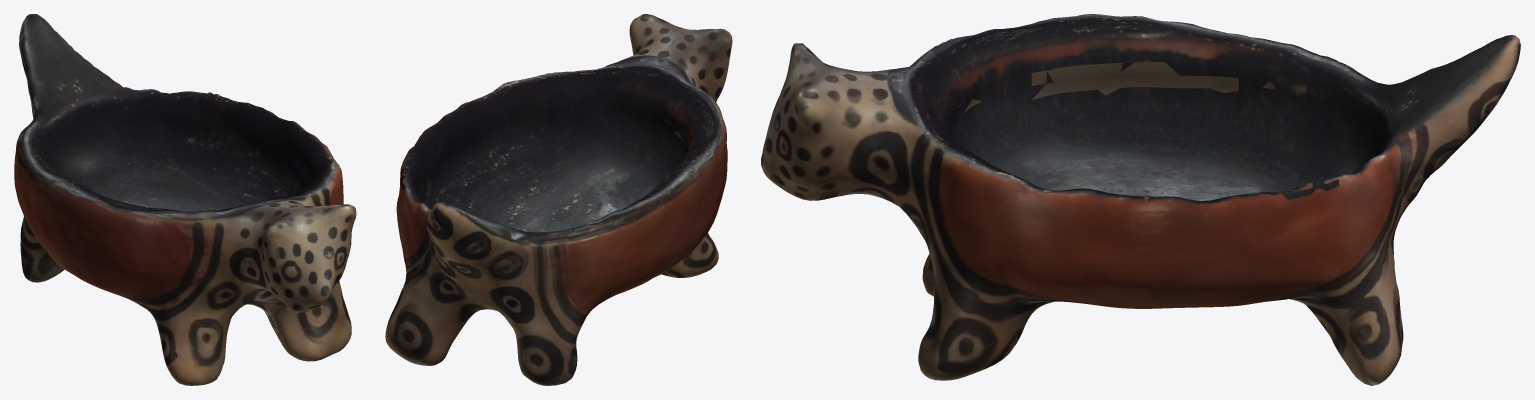
Rendered from Onca_Poisson_15_16_0.obj.
3 renders of one model, left to right at view 1: azimuth 30°, elevation 25°; view 2: azimuth 150°, elevation 25°; view 3: azimuth 270°, elevation 25°, orthographic. The views are drawn at different scales.
Bounding box in the file's own units: 123 × 95.44 × 224.
1 material, 1 textured.
